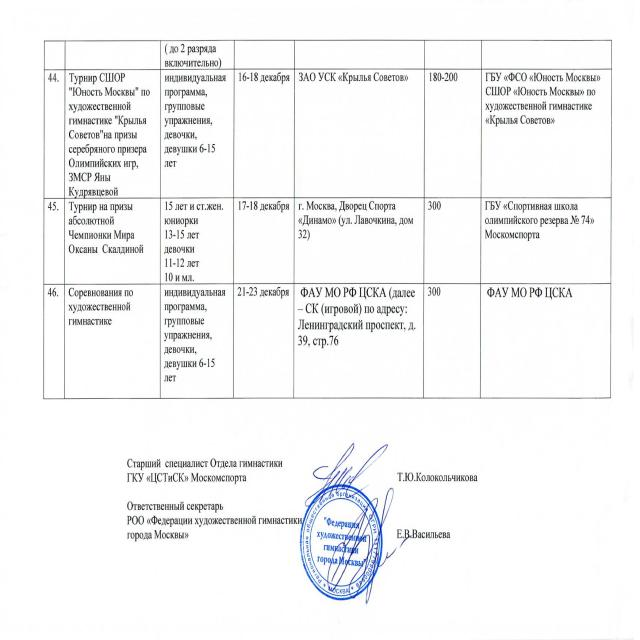stamps: (286, 470, 420, 606)
